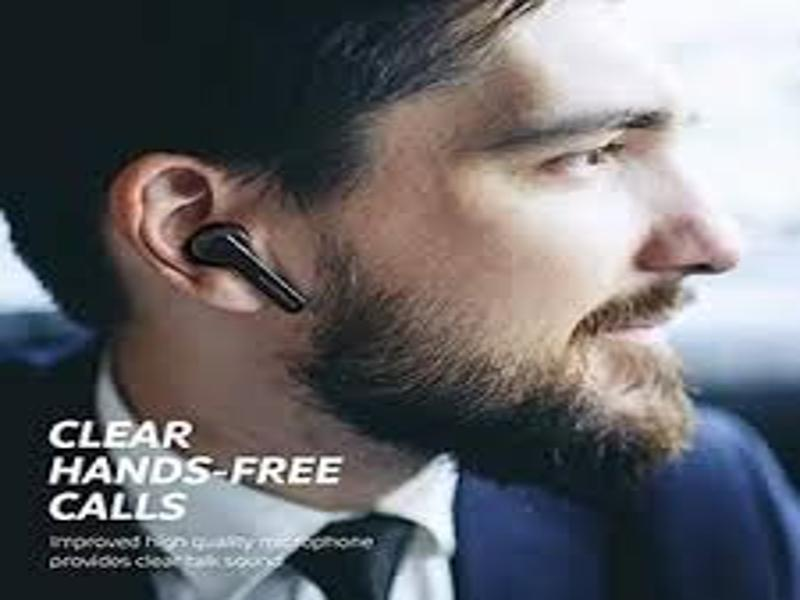headphone: (185, 220, 310, 314)
